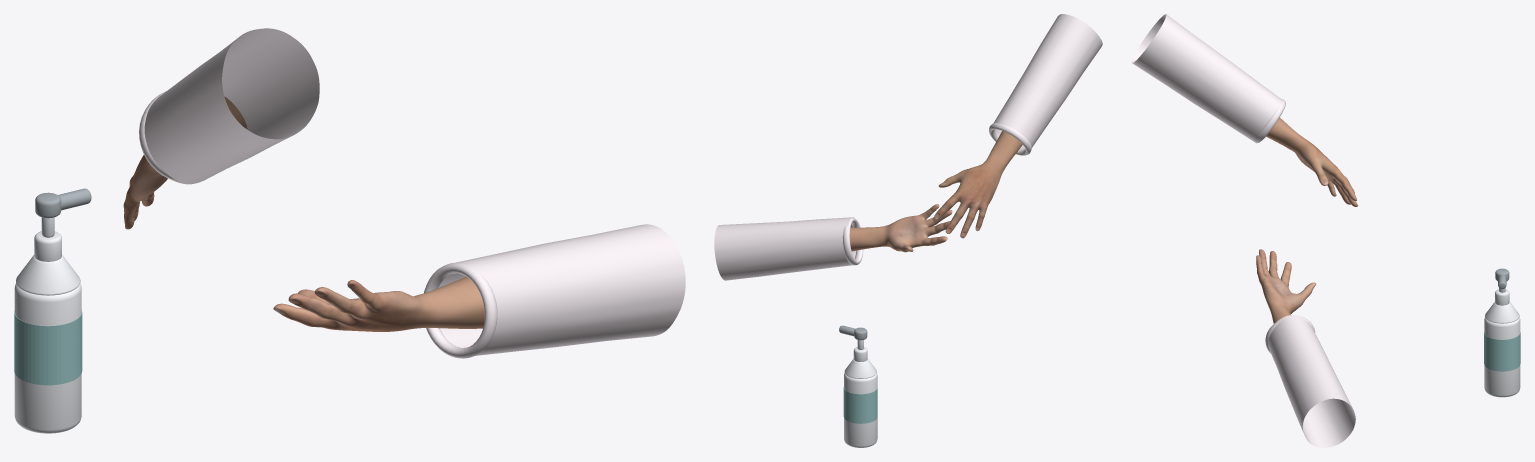
The model's file is hygiene_rig.glb.
The picture shows the model from 3 angles, left to right: view 1: azimuth 30°, elevation 25°; view 2: azimuth 150°, elevation 25°; view 3: azimuth 270°, elevation 25°; orthographic projection. The views are drawn at different scales.
Parts seen in each view (by area): view 1: Cylinder.004, Cylinder.005, Cylinder, Human, Human.001; view 2: Cylinder.004, Cylinder.005, Human.001, Cylinder, Human; view 3: Cylinder.005, Cylinder.004, Cylinder, Human.001, Human.
Boxes of the visible parts, x1,y1,x2,y2 form: Cylinder.004: (424, 224, 685, 358); Cylinder.005: (139, 28, 319, 184); Cylinder: (14, 188, 91, 433); Human: (273, 277, 484, 331); Human.001: (123, 96, 247, 229); Cylinder.004: (714, 217, 863, 280); Cylinder.005: (989, 14, 1102, 155); Human.001: (934, 131, 1022, 238); Cylinder: (839, 325, 877, 447); Human: (849, 204, 952, 252); Cylinder.005: (1131, 14, 1285, 143); Cylinder.004: (1265, 315, 1355, 447); Cylinder: (1484, 268, 1520, 397); Human.001: (1266, 117, 1358, 206); Human: (1256, 249, 1316, 323).
Bounding box in the file's own units: 0.7507 × 0.768 × 0.7812.
2 materials, 2 textured.
